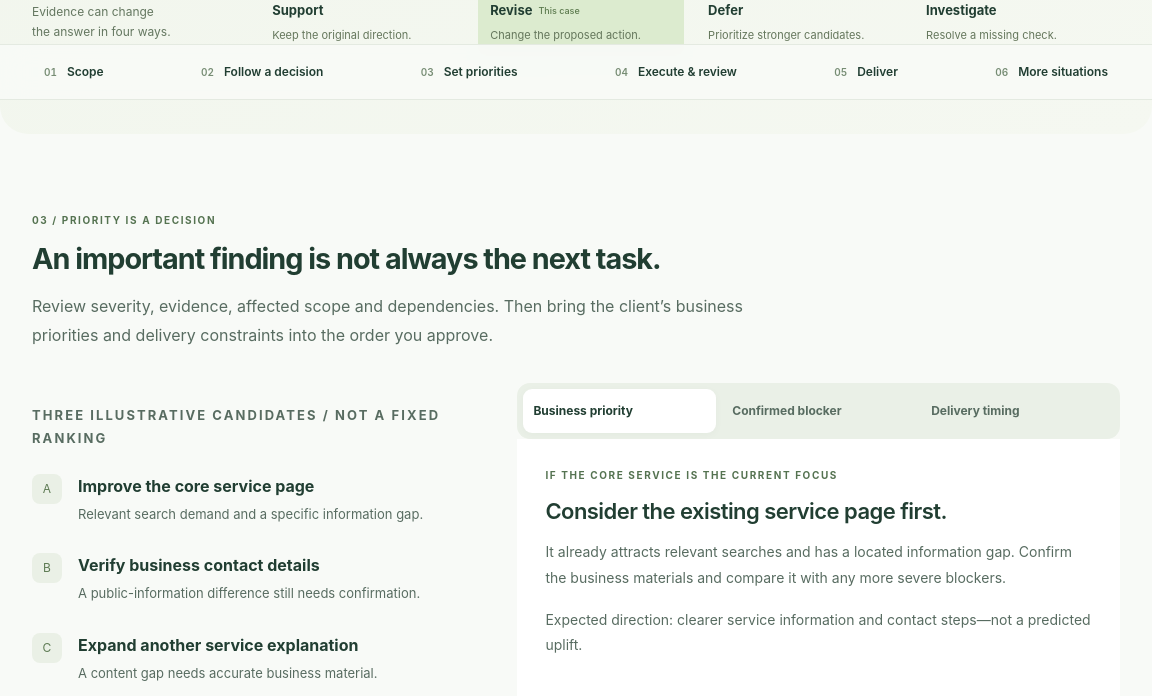
Test: public method guide › shows conditional priority changes, not a calculated impact score
This screenshot has width=1152, height=696.
(page scrolled)
What coordinates should you click on to do the following:
click the tab "Confirmed blocker"
I would click on:
 (819, 411)
Its box is [722,389,915,433].
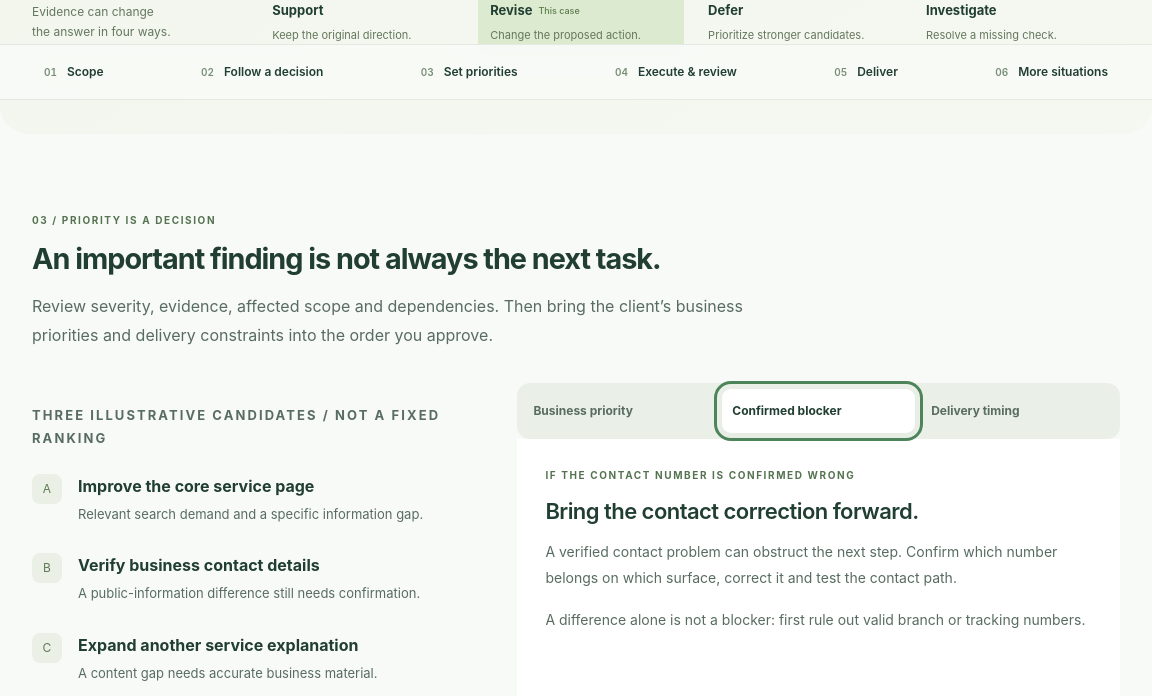
Now the heading "Bring the contact correction forward." is shown, box [545,498,919,524]
Now the text "rule out valid branch or tracking numbers" is shown, box [545,611,1086,628]
What coordinates should you click on to do the following:
click the tab "Delivery timing"
I would click on:
 (1018, 411)
Its box is [921,389,1114,433].
(page scrolled)
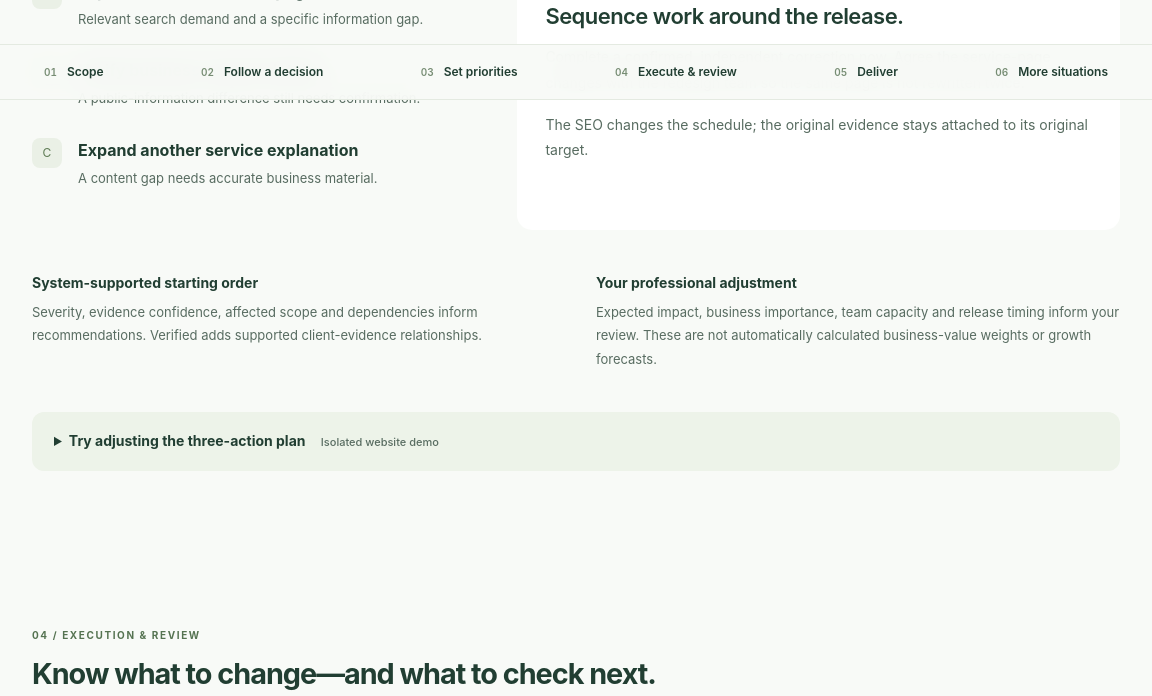
Expected: the text "not automatically calculated business-value weights" is shown, [596,304,1119,367]
Now the heading "Sequence work around the release." is shown, box [545,3,904,29]
